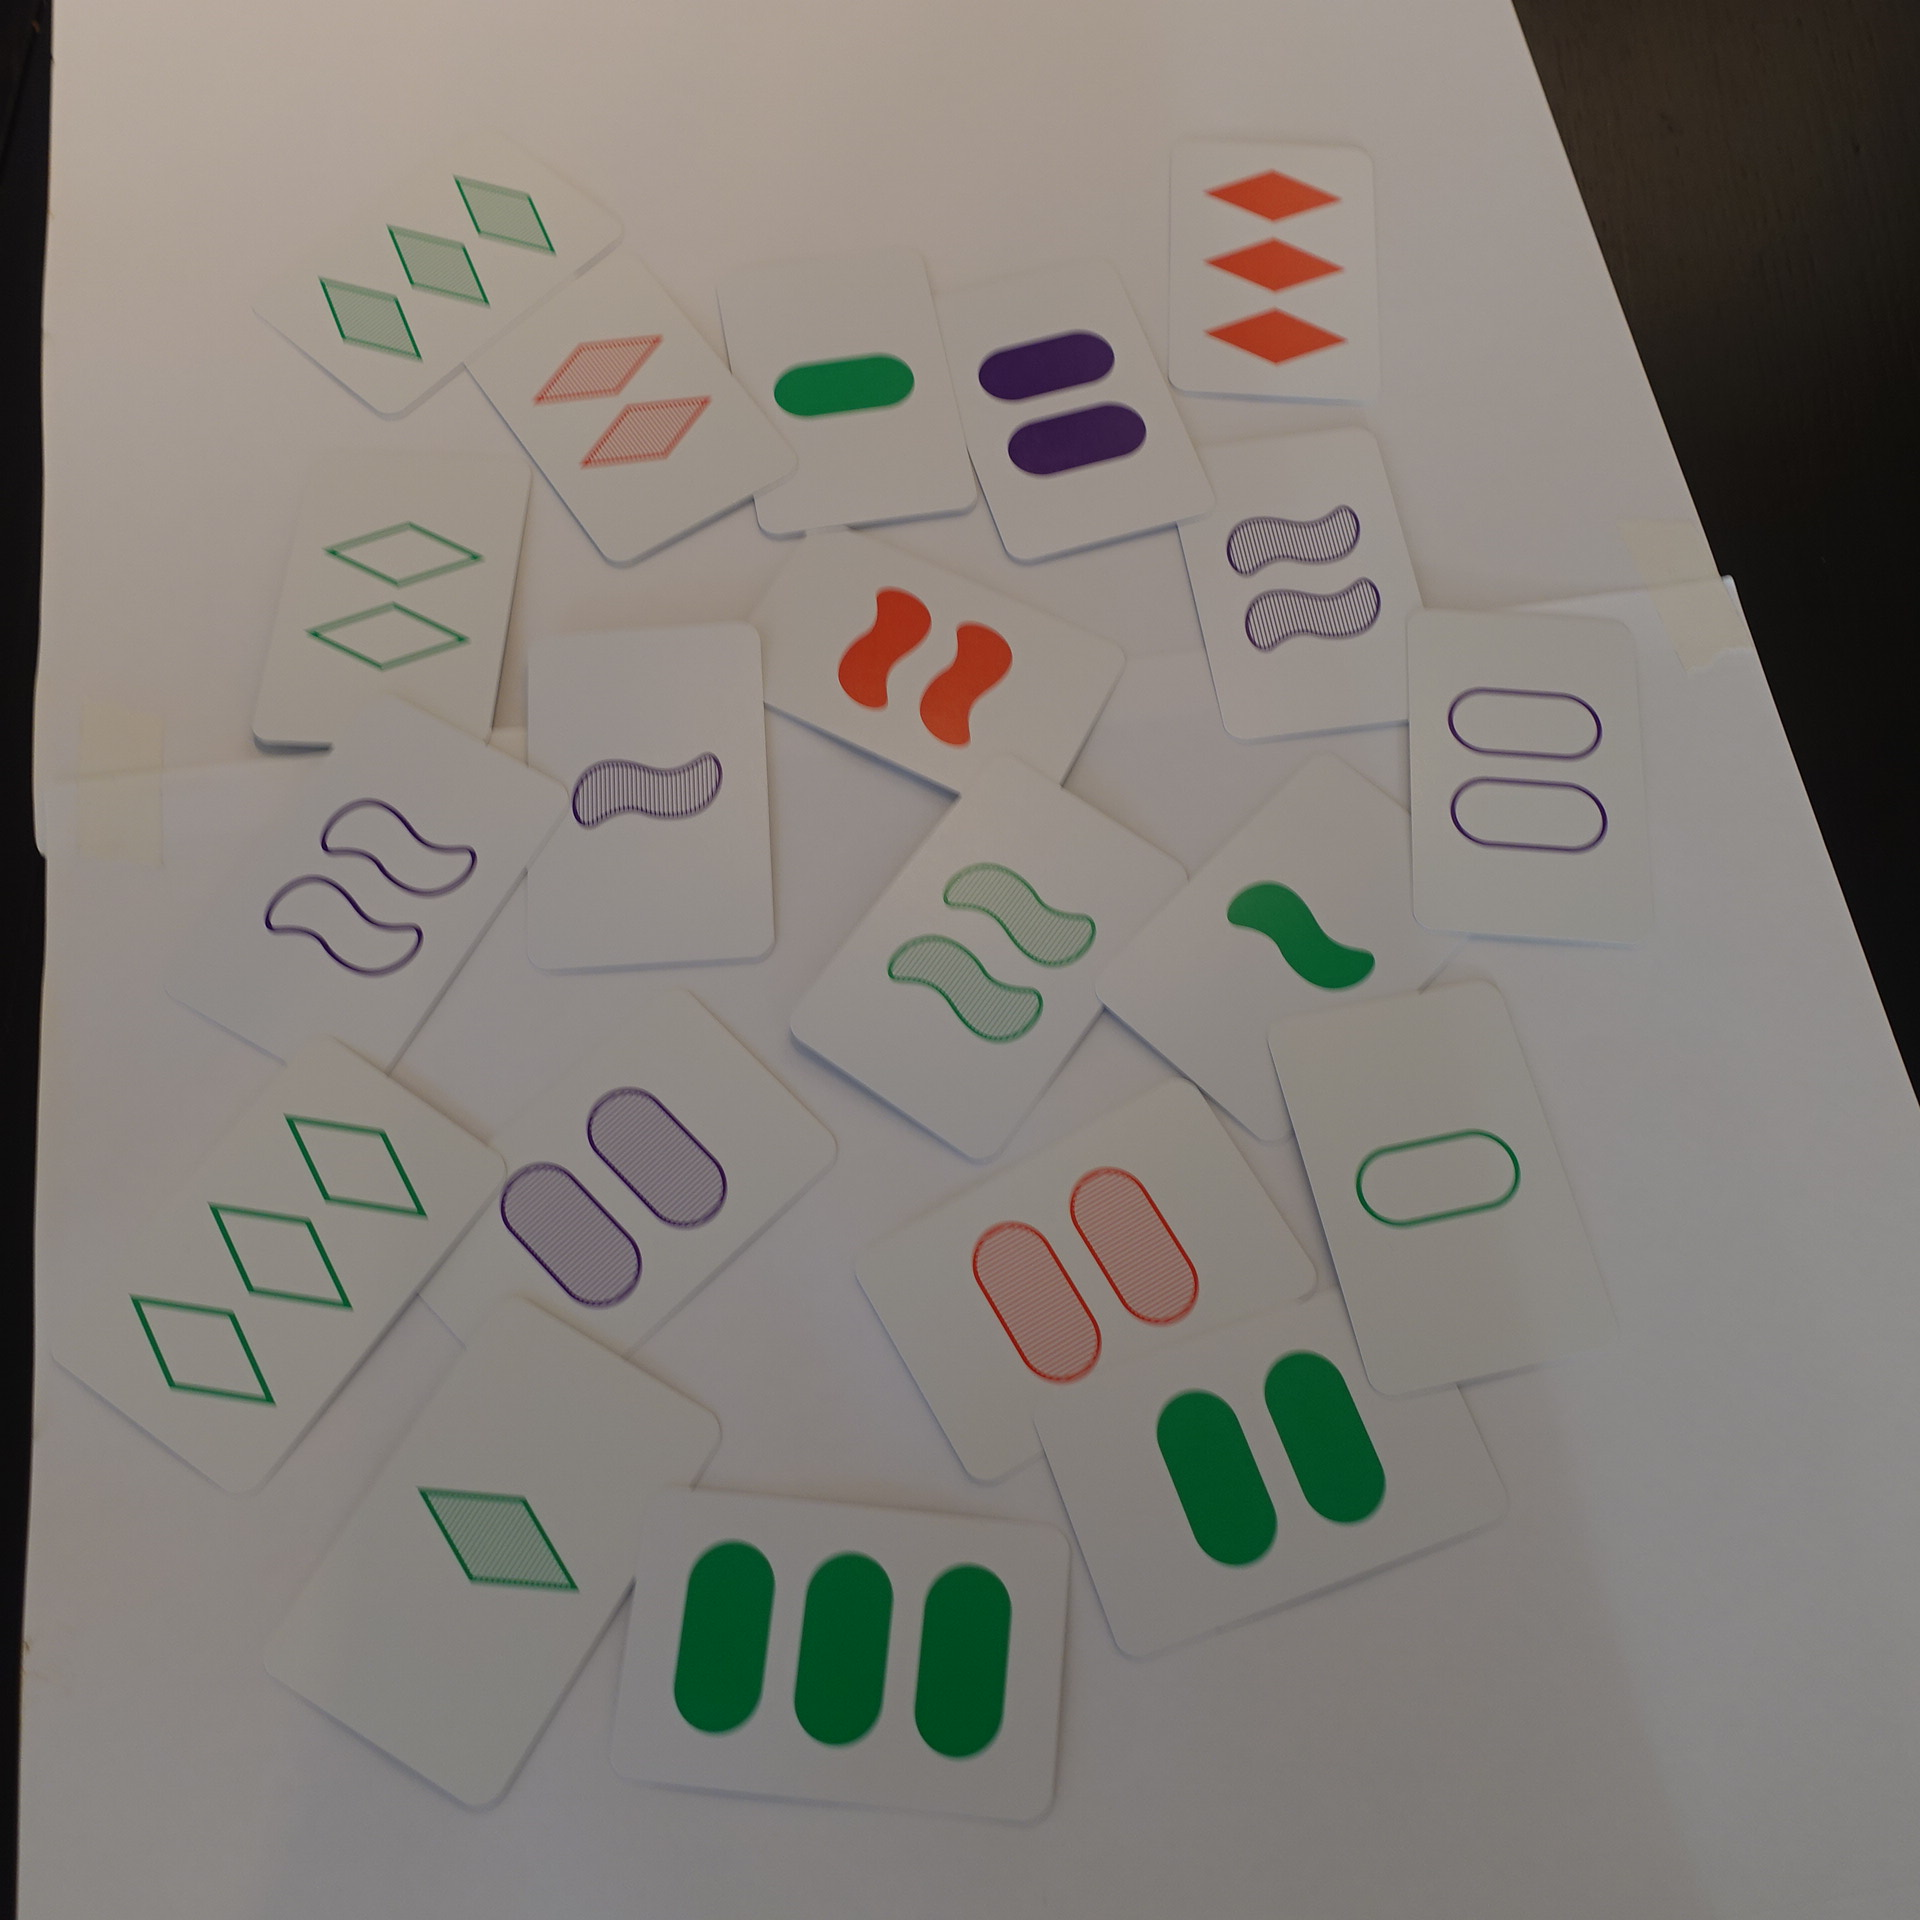c-2-h-o-r: (250, 1282, 738, 1823), (42, 1020, 520, 1512), (844, 1071, 1335, 1489), (1029, 1269, 1524, 1676), (394, 979, 847, 1405), (775, 747, 1201, 1166), (165, 682, 584, 1104), (605, 1477, 1085, 1839), (1095, 747, 1512, 1155), (1257, 969, 1642, 1408), (724, 517, 1139, 832), (257, 128, 636, 431), (461, 244, 804, 575), (244, 427, 538, 775), (1393, 598, 1670, 965), (510, 614, 788, 981), (1153, 418, 1452, 754), (925, 251, 1225, 577), (709, 236, 990, 552), (1155, 120, 1396, 418)
